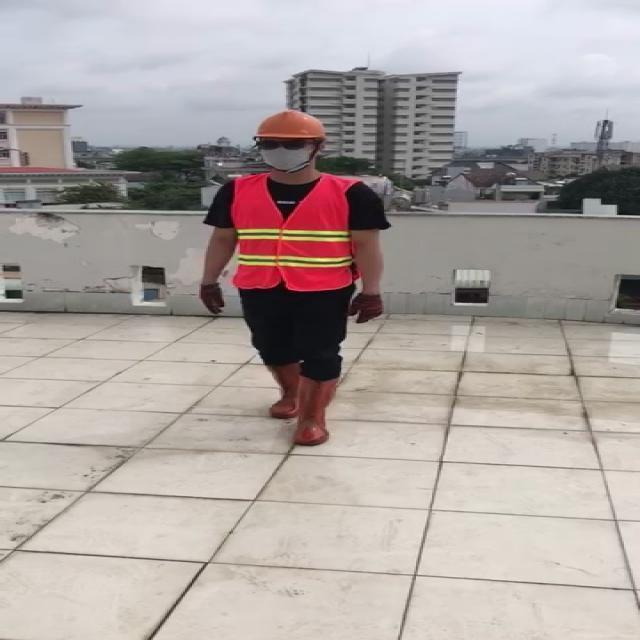gloves: (346, 294, 383, 325), (199, 283, 225, 316)
goggles: (254, 141, 319, 151)
helmet: (250, 107, 332, 143)
safety_vest: (233, 175, 354, 290)
